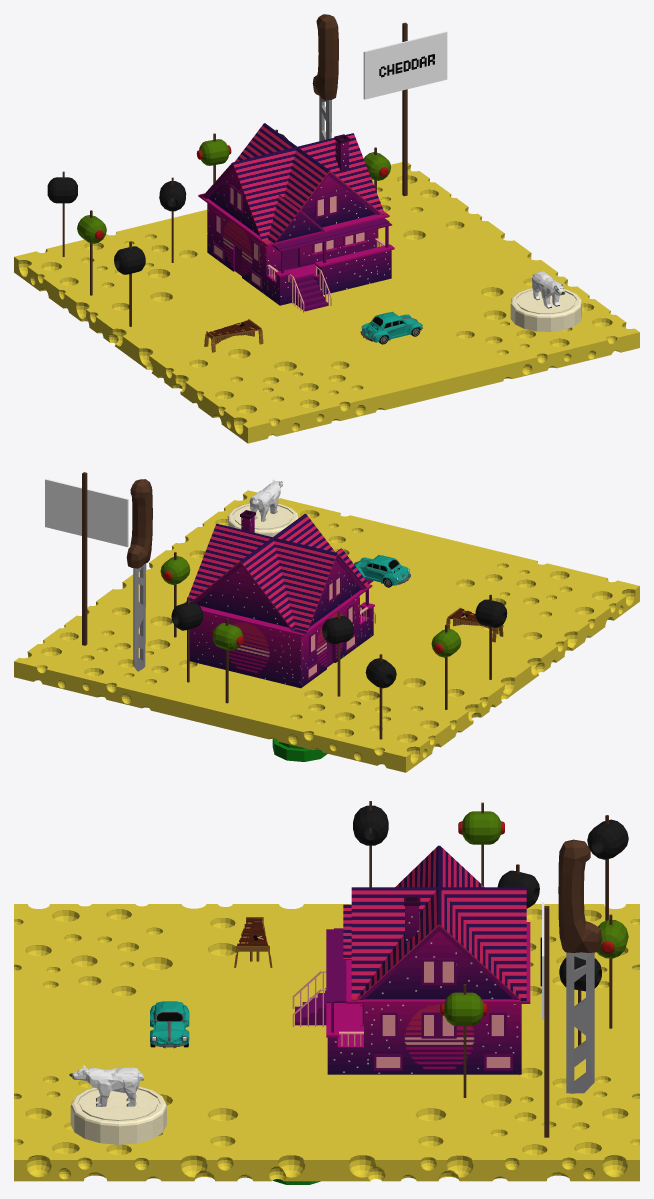
3 views of the same model, one above another, from view 1: azimuth 30°, elevation 25°; view 2: azimuth 150°, elevation 25°; view 3: azimuth 270°, elevation 25° (orthographic). The views are drawn at different scales.
Visible parts, largest first — view 1: Cube.022, Cube.156, Cube.023, Cylinder.016, Cube.024, VEHICLES_VOLKSWAGEN, Sphere.017, Sphere.016, Sphere.020, Sphere.018, OBJRANDOM_MARIMBA, ANIMAL_OSO_POLAR (+2 smaller); view 2: Cube.022, Cube.156, Cube.023, Cube.024, Cylinder.016, VEHICLES_VOLKSWAGEN, Sphere.020, Sphere.016, Sphere.022, Sphere.017, Sphere.021, Sphere.018 (+4 smaller); view 3: Cube.022, Cube.156, Cube.024, Cylinder.016, VEHICLES_VOLKSWAGEN, Cube.023, ANIMAL_OSO_POLAR, Sphere.019, Sphere.016, Sphere.018, Sphere.017, Sphere.022 (+3 smaller).
Part boxes in pixels (bbox=[...]): Cube.022: bbox=[14, 162, 639, 443]; Cube.156: bbox=[198, 123, 394, 312]; Cube.023: bbox=[363, 22, 447, 196]; Cylinder.016: bbox=[510, 288, 581, 331]; Cube.024: bbox=[312, 14, 338, 141]; VEHICLES_VOLKSWAGEN: bbox=[360, 312, 422, 344]; Sphere.017: bbox=[114, 241, 145, 326]; Sphere.016: bbox=[47, 171, 77, 256]; Sphere.020: bbox=[159, 177, 186, 262]; Sphere.018: bbox=[77, 210, 106, 295]; OBJRANDOM_MARIMBA: bbox=[204, 319, 263, 352]; ANIMAL_OSO_POLAR: bbox=[532, 271, 565, 308]; Cube.022: bbox=[14, 490, 639, 772]; Cube.156: bbox=[185, 510, 375, 688]; Cube.023: bbox=[45, 472, 128, 645]; Cube.024: bbox=[126, 479, 152, 671]; Cylinder.016: bbox=[227, 503, 298, 537]; VEHICLES_VOLKSWAGEN: bbox=[354, 555, 410, 587]; Sphere.020: bbox=[322, 611, 353, 696]; Sphere.016: bbox=[365, 654, 396, 739]; Sphere.022: bbox=[212, 618, 243, 703]; Sphere.017: bbox=[475, 594, 507, 679]; Sphere.021: bbox=[171, 597, 203, 682]; Sphere.018: bbox=[431, 624, 461, 709]; Cube.022: bbox=[14, 904, 639, 1181]; Cube.156: bbox=[292, 845, 530, 1074]; Cube.024: bbox=[558, 839, 602, 1093]; Cylinder.016: bbox=[70, 1086, 166, 1144]; VEHICLES_VOLKSWAGEN: bbox=[150, 1001, 189, 1048]; Cube.023: bbox=[540, 902, 549, 1137]; ANIMAL_OSO_POLAR: bbox=[69, 1065, 143, 1106]; Sphere.019: bbox=[440, 984, 487, 1097]; Sphere.016: bbox=[587, 815, 628, 920]; Sphere.018: bbox=[458, 802, 504, 885]; Sphere.017: bbox=[353, 801, 388, 887]; Sphere.022: bbox=[597, 914, 628, 1028].
Size of the model in its own units: 3917 by 2590 by 4000.
35 materials, 5 textured.
